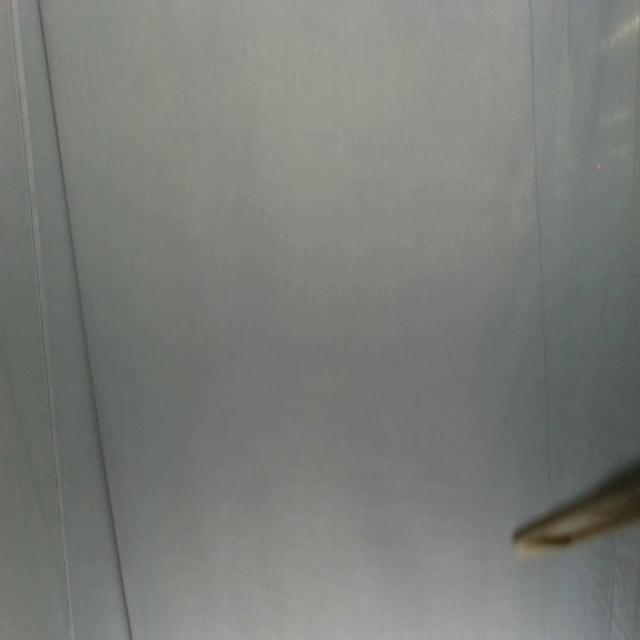crease: (36, 0, 135, 636), (9, 0, 73, 640), (525, 0, 557, 494)
